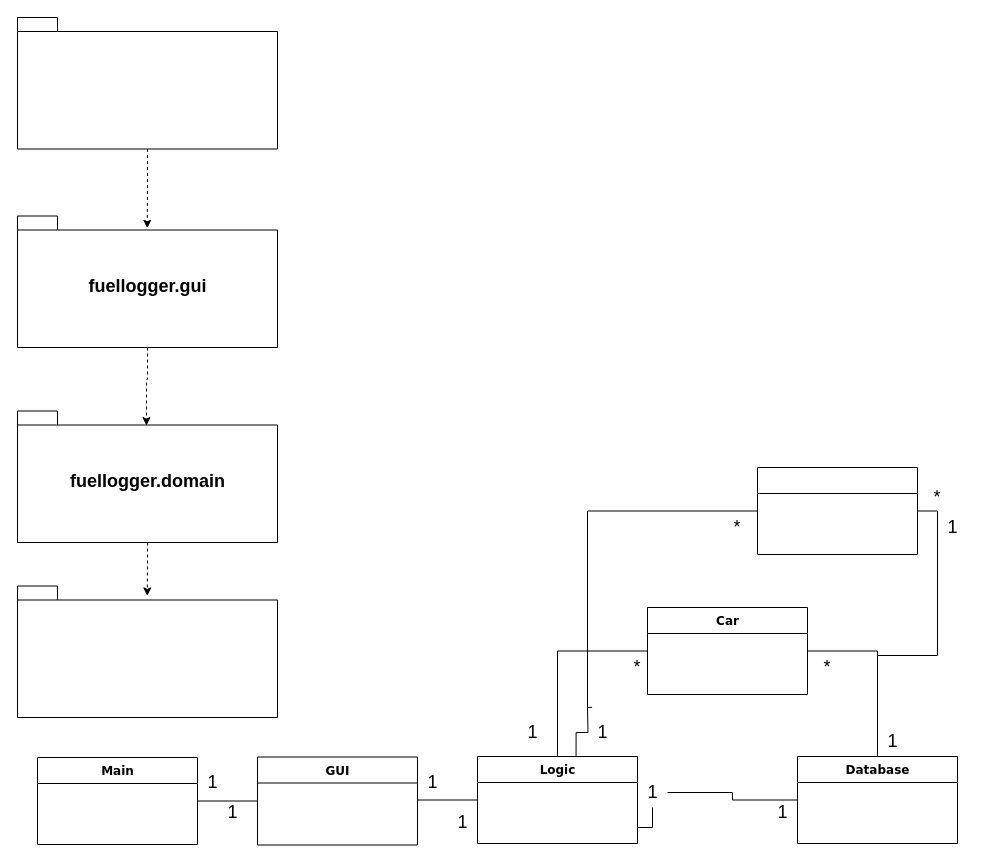
The diagram is 985 pixels wide and 863 high, and some of its shapes have lost their labels. Here are the shapes that lost their labels. From the top down, the centre of each, then its label:
At point 147,82: "fuellogger".
At point 837,510: "Refueling".
At point 147,651: "fuellogger.dao".
